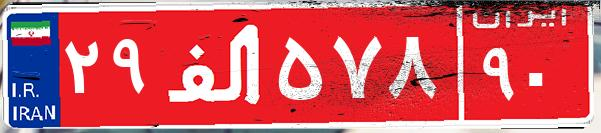0: (525, 38, 570, 115)
2: (57, 26, 110, 107)
5: (273, 28, 330, 110)
7: (330, 28, 385, 110)
8: (385, 28, 445, 110)
9: (475, 38, 525, 113), (110, 28, 158, 105)
الف: (158, 15, 273, 115)
